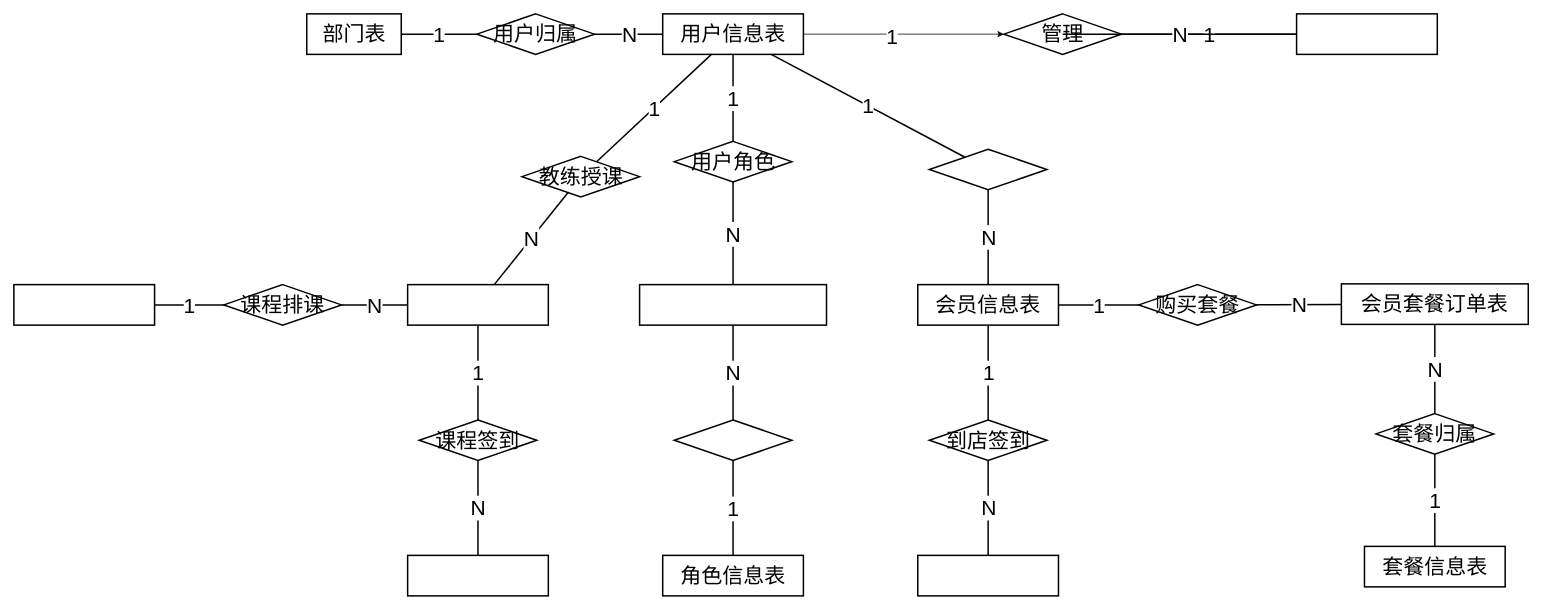
The diagram is 1542 pixels wide and 609 high, and some of its shapes have lost their labels. Here are the shapes that lost their labels. From the top down, the centre of each, then its label:
(1366,34): 菜单权限表
(987,169): 负责会员
(84,305): 课程管理表
(477,305): 课程排期表
(732,305): 用户角色关联表
(732,440): 角色关联
(477,575): 课程签到表
(988,575): 会员签到表
